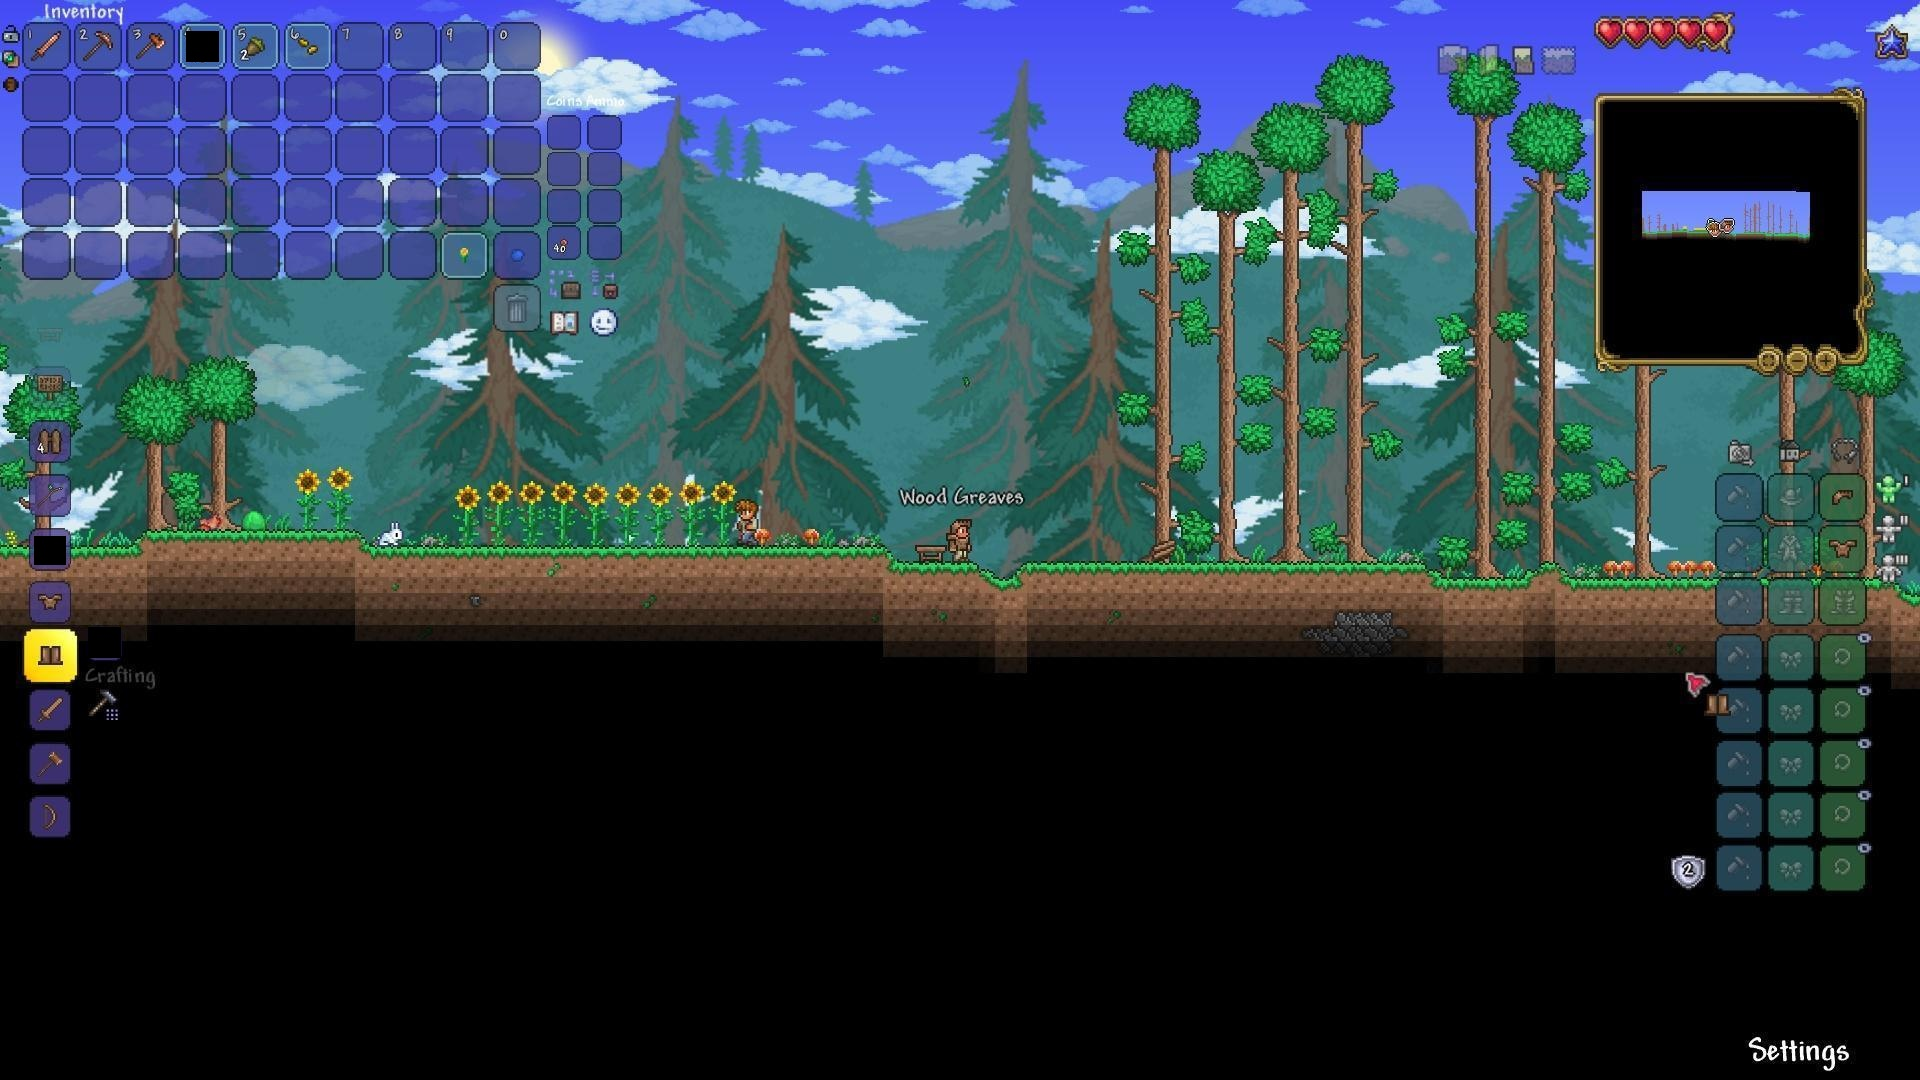breastplate: (34, 592, 65, 613), (1830, 538, 1859, 558)
helmet: (1828, 483, 1859, 510)
legs: (37, 641, 62, 669)
slime: (236, 505, 266, 531)
wood: (1150, 535, 1182, 566)
workbench: (911, 543, 945, 564)
